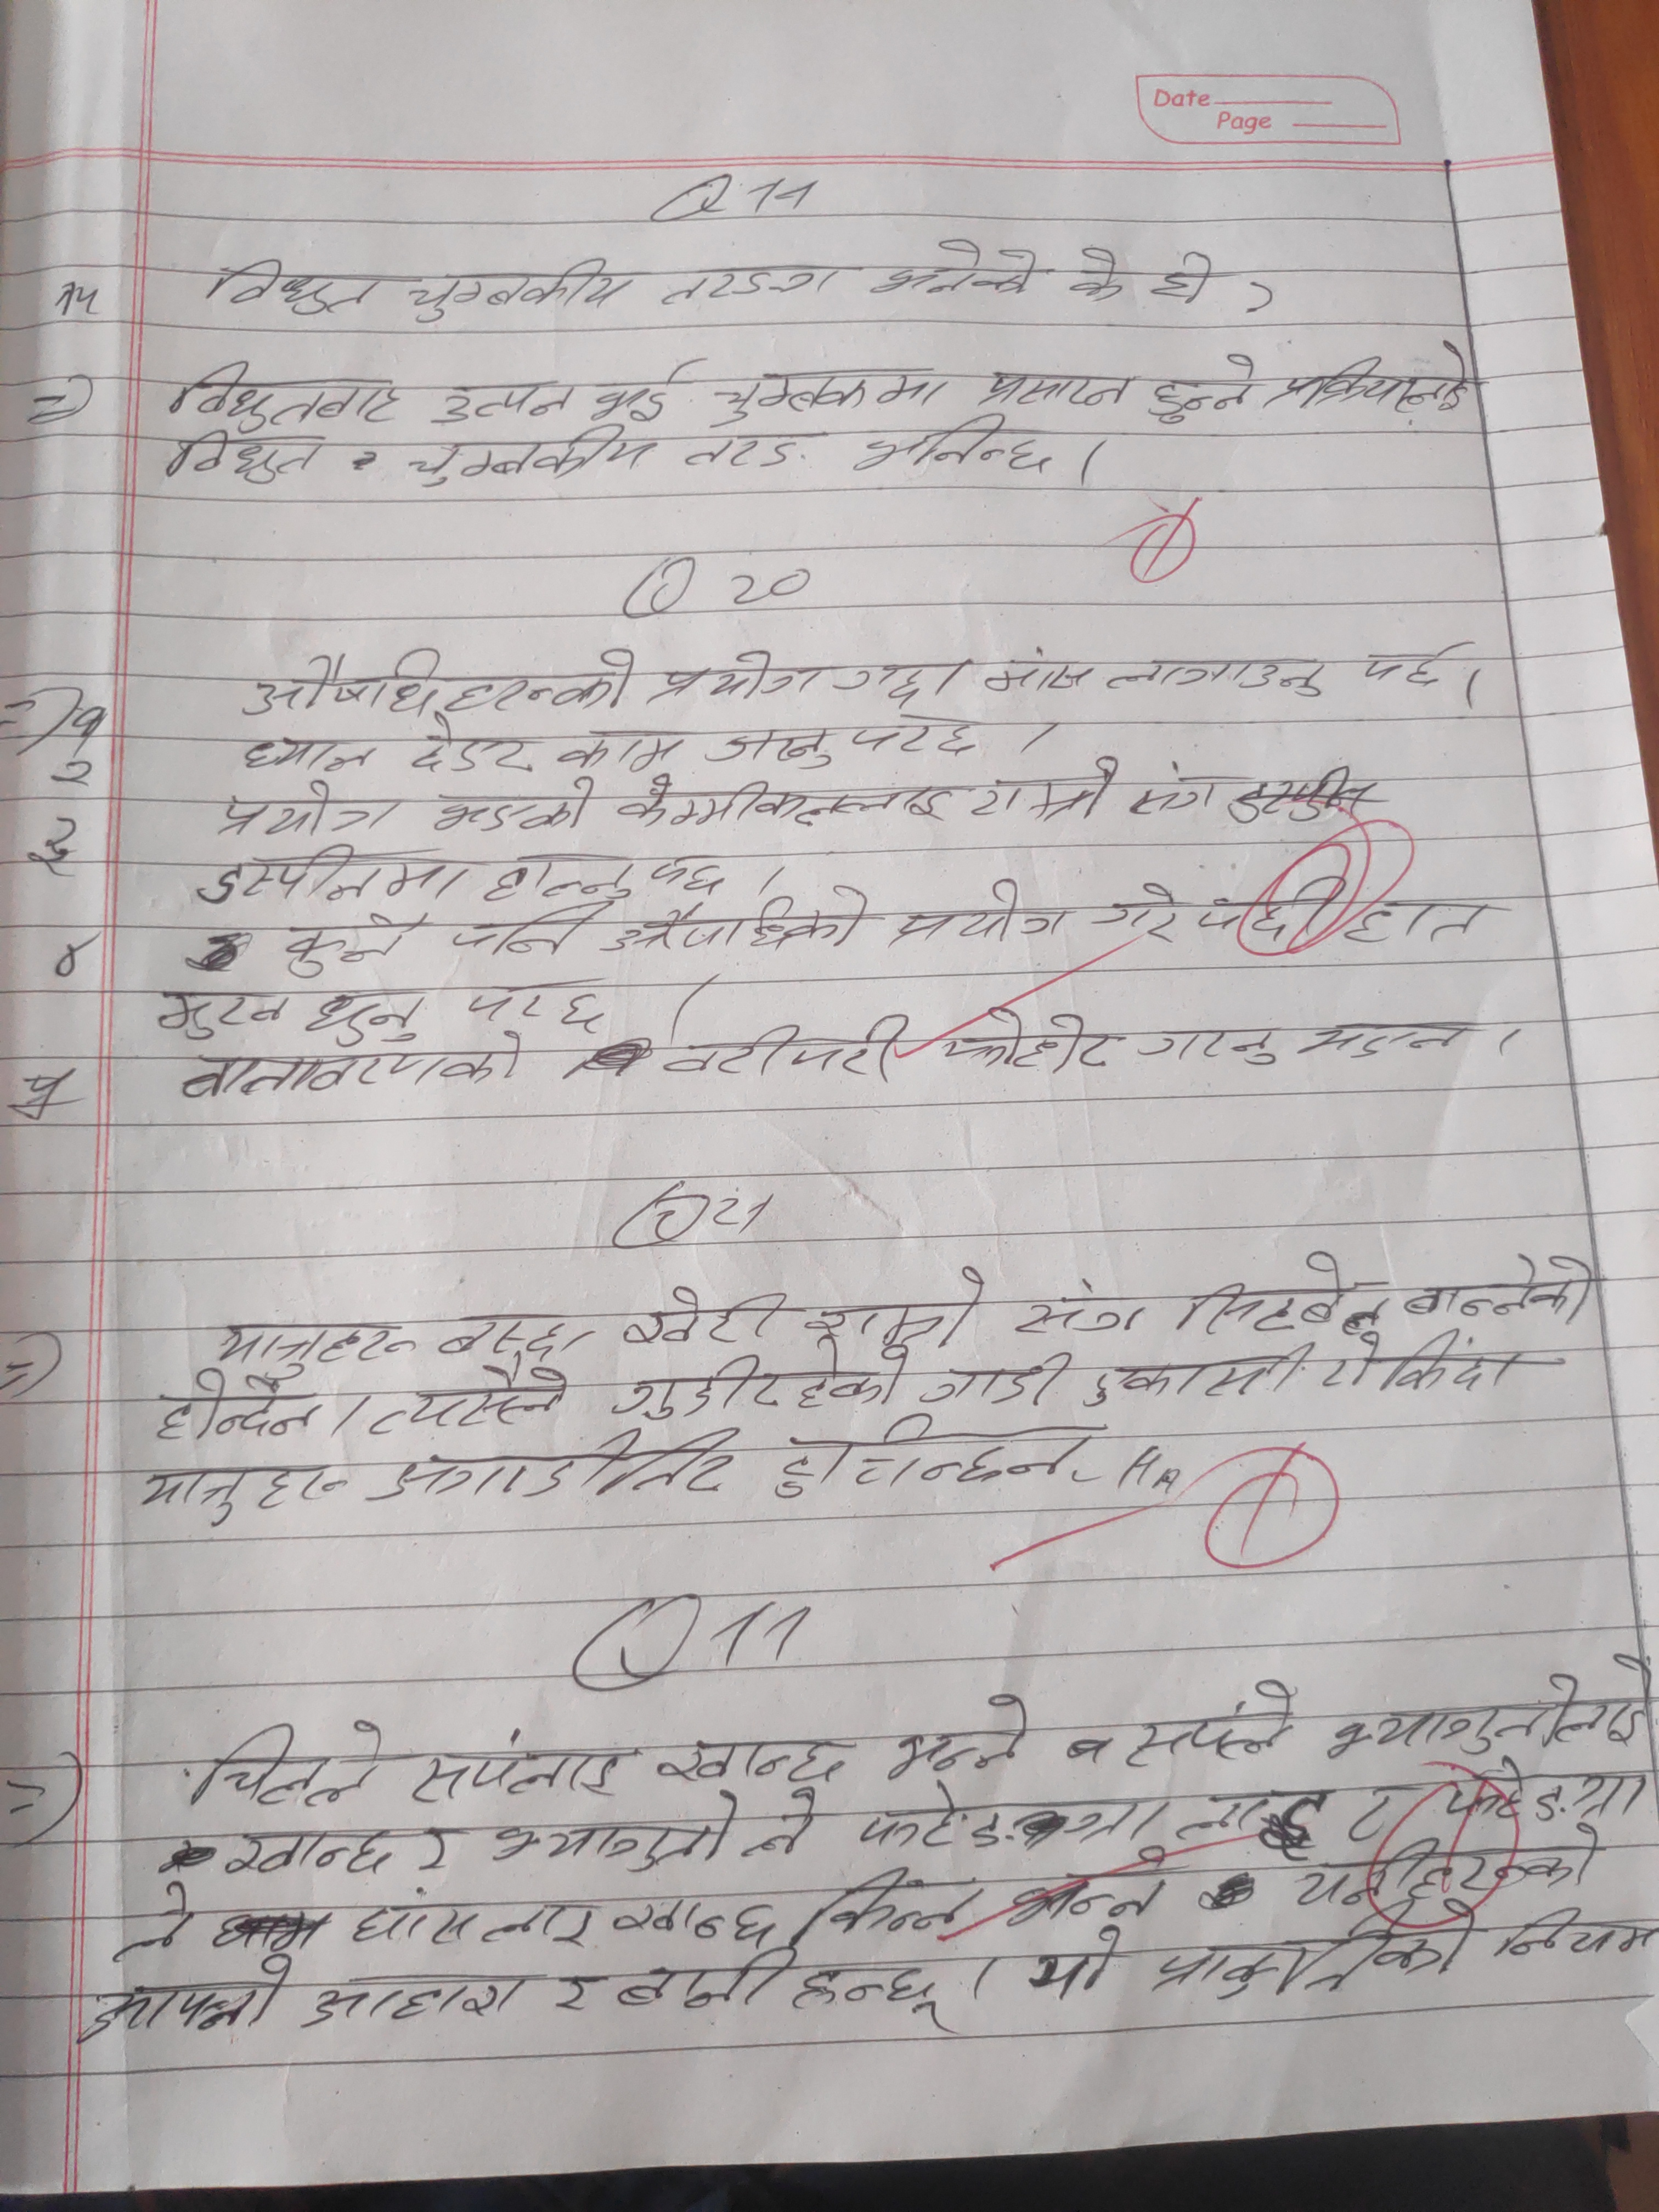text: (1324, 1658, 1659, 1759), (1143, 1898, 1471, 2001), (486, 1794, 830, 1878), (765, 1416, 1105, 1500), (376, 1428, 739, 1501), (240, 650, 636, 712), (1290, 1831, 1612, 1905), (173, 1036, 537, 1103), (613, 768, 953, 829), (659, 1007, 913, 1087), (589, 1353, 918, 1414), (859, 1784, 1176, 1846), (78, 1958, 296, 2043), (1180, 1256, 1398, 1339), (186, 1719, 380, 1813), (610, 888, 875, 956), (403, 423, 659, 491), (404, 251, 641, 324), (1288, 336, 1476, 421), (1114, 1683, 1297, 1768), (338, 1895, 601, 1954), (1321, 1329, 1534, 1402), (798, 1268, 1000, 1345), (1441, 1756, 1652, 1829), (368, 1360, 566, 1437), (413, 1738, 629, 1808), (795, 1862, 981, 1942), (1087, 1345, 1319, 1409), (136, 1458, 345, 1529), (992, 1843, 1169, 1926), (709, 716, 993, 768), (169, 366, 399, 430), (885, 1691, 1042, 1785), (481, 853, 742, 909), (1103, 639, 1328, 704), (620, 1933, 796, 2012), (702, 368, 955, 421), (943, 1000, 1121, 1076), (1405, 1252, 1595, 1324), (852, 413, 1066, 475), (894, 878, 1068, 953), (866, 232, 1046, 303), (202, 855, 464, 904), (1490, 1895, 1659, 1968), (298, 1979, 538, 2029), (223, 1810, 390, 1881), (650, 1731, 856, 1789), (225, 773, 403, 840), (153, 1378, 331, 1444), (598, 1883, 788, 1944), (1180, 1782, 1328, 1858), (796, 1959, 945, 2036), (167, 427, 338, 493), (659, 254, 849, 314), (622, 1282, 800, 1345), (660, 646, 831, 711), (216, 1322, 413, 1378), (1199, 873, 1340, 949), (202, 258, 392, 314), (430, 773, 601, 834), (965, 758, 1126, 820), (915, 1346, 1077, 1407), (1335, 895, 1507, 951), (277, 909, 422, 975), (1004, 1275, 1150, 1339), (1286, 1010, 1473, 1061), (978, 357, 1141, 415), (448, 904, 606, 963), (469, 970, 615, 1031), (301, 984, 439, 1049), (1134, 1015, 1286, 1071), (1155, 348, 1262, 427), (432, 369, 577, 427), (410, 709, 538, 773), (835, 650, 972, 707), (237, 725, 383, 779), (586, 357, 697, 427), (1025, 1921, 1126, 1998), (148, 981, 286, 1036), (554, 719, 688, 772), (437, 1312, 587, 1355), (981, 639, 1094, 697), (1347, 636, 1464, 690), (1094, 878, 1187, 946), (1129, 758, 1220, 826), (681, 430, 819, 474), (1333, 1784, 1415, 1846), (1063, 235, 1124, 307), (406, 1820, 474, 1881), (1148, 246, 1220, 300), (540, 1968, 603, 2019)
